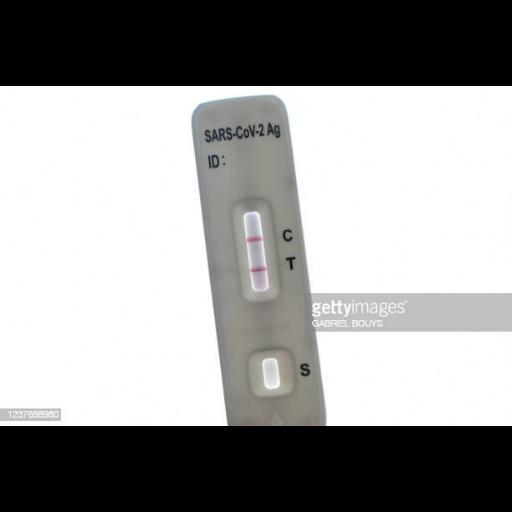Pos: (191, 92, 328, 425)
